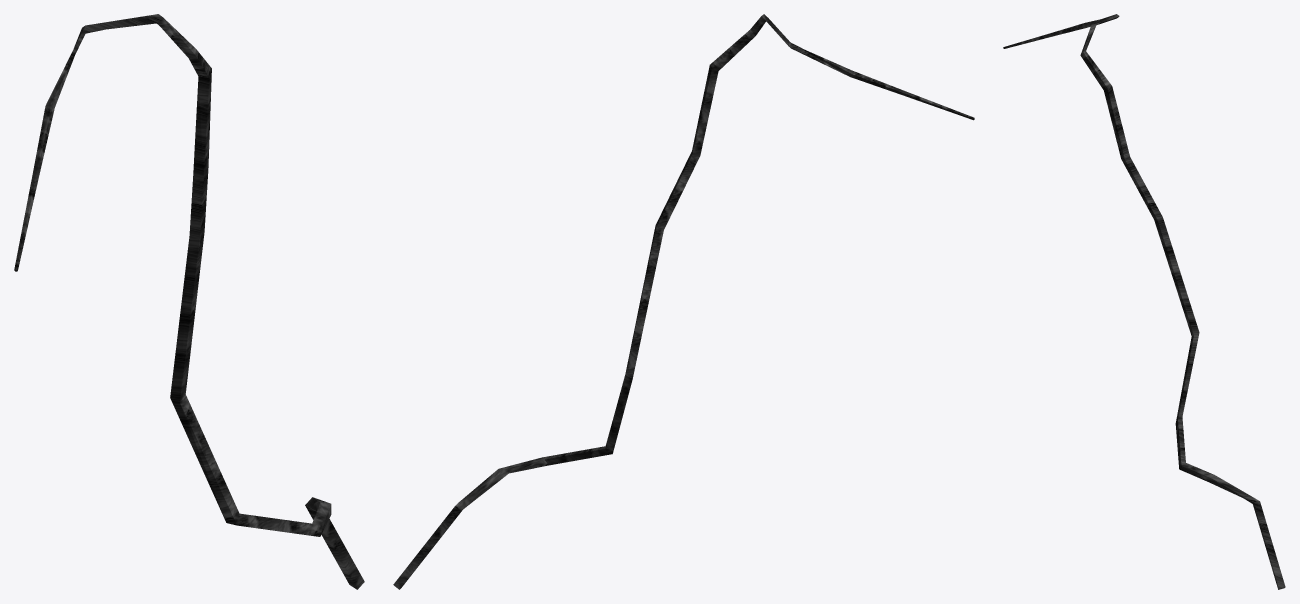
File: SnowCreatureB_5.gltf
3 renders of one model, left to right at view 1: azimuth 30°, elevation 25°; view 2: azimuth 150°, elevation 25°; view 3: azimuth 270°, elevation 25°, orthographic. The views are drawn at different scales.
Visible parts, largest first — view 1: SnowCreatureB_5; view 2: SnowCreatureB_5; view 3: SnowCreatureB_5.
Part boxes in pixels (bbox=[...]): SnowCreatureB_5: bbox=[14, 14, 364, 589]; SnowCreatureB_5: bbox=[393, 14, 974, 589]; SnowCreatureB_5: bbox=[1003, 14, 1285, 589].
Bounding box in the file's own units: 17.62 × 22.44 × 12.39.
Materials: 1 (1 with a texture image).
